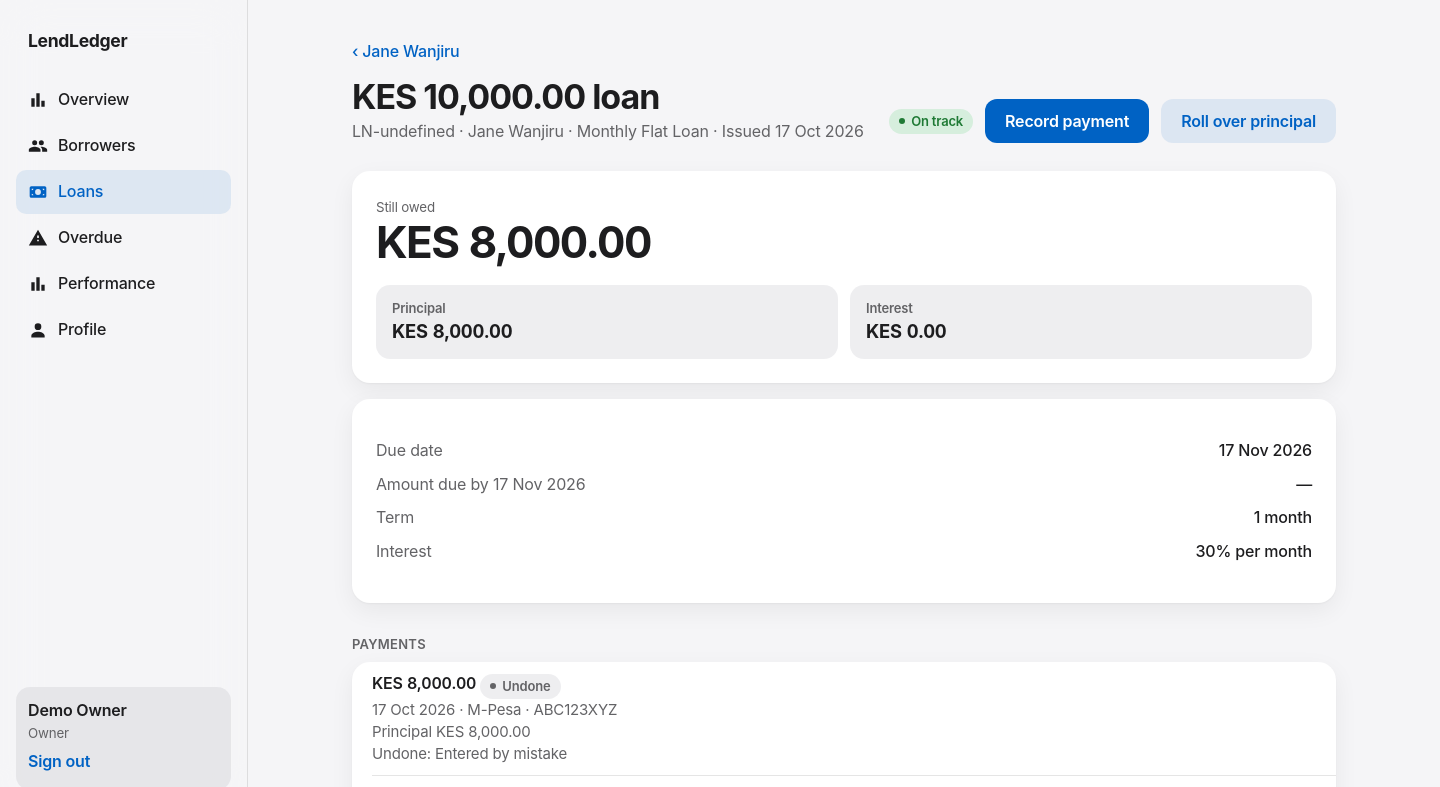
Test: record payment › retries with the SAME idempotency key after a failure
Click the button "Record payment".
click(1067, 121)  # box [985,99,1149,143]
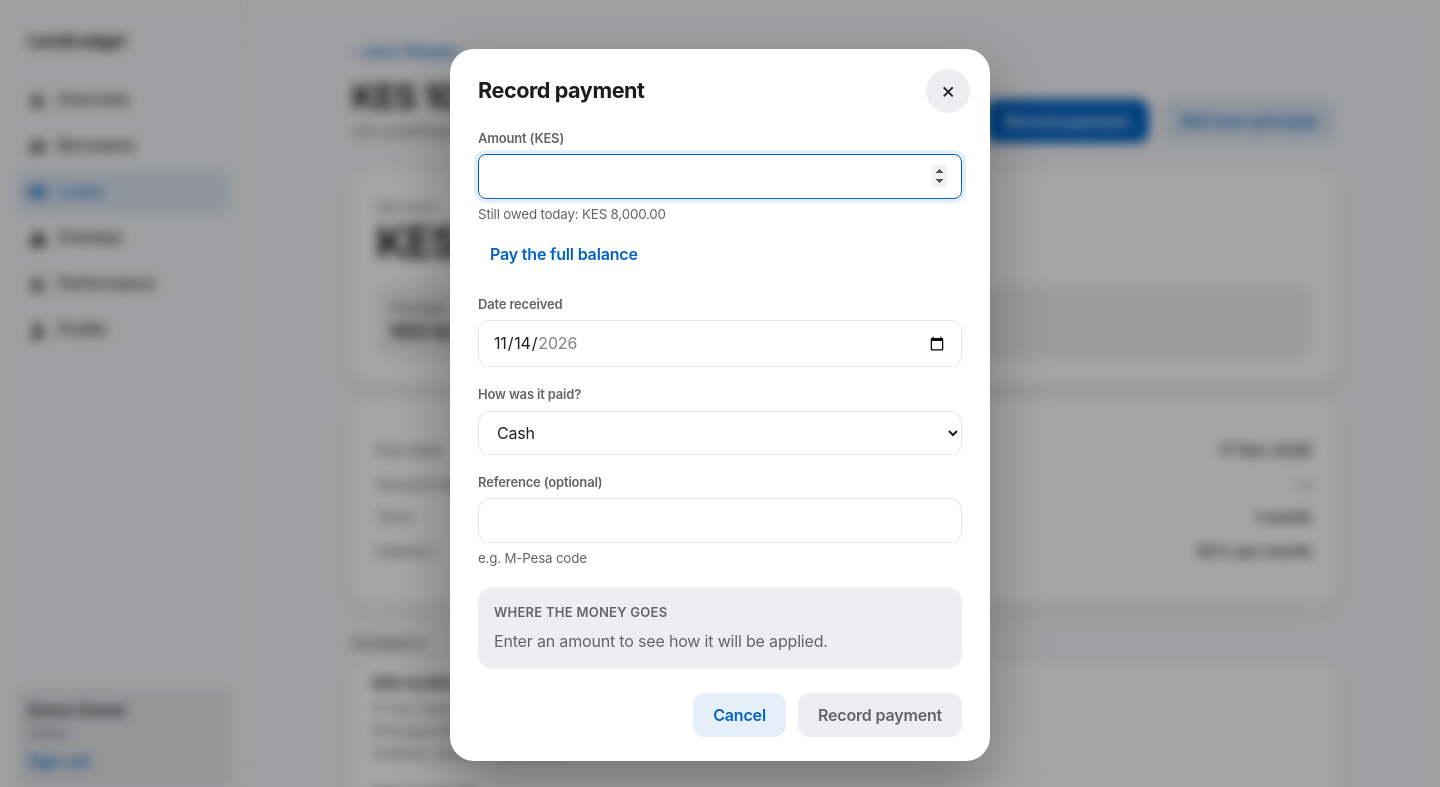
Type "5000" into the number field labelled "Amount (KES) Still owed today: KES 8,000.00".
click(720, 176); type("5000")  # box [478,154,962,199]
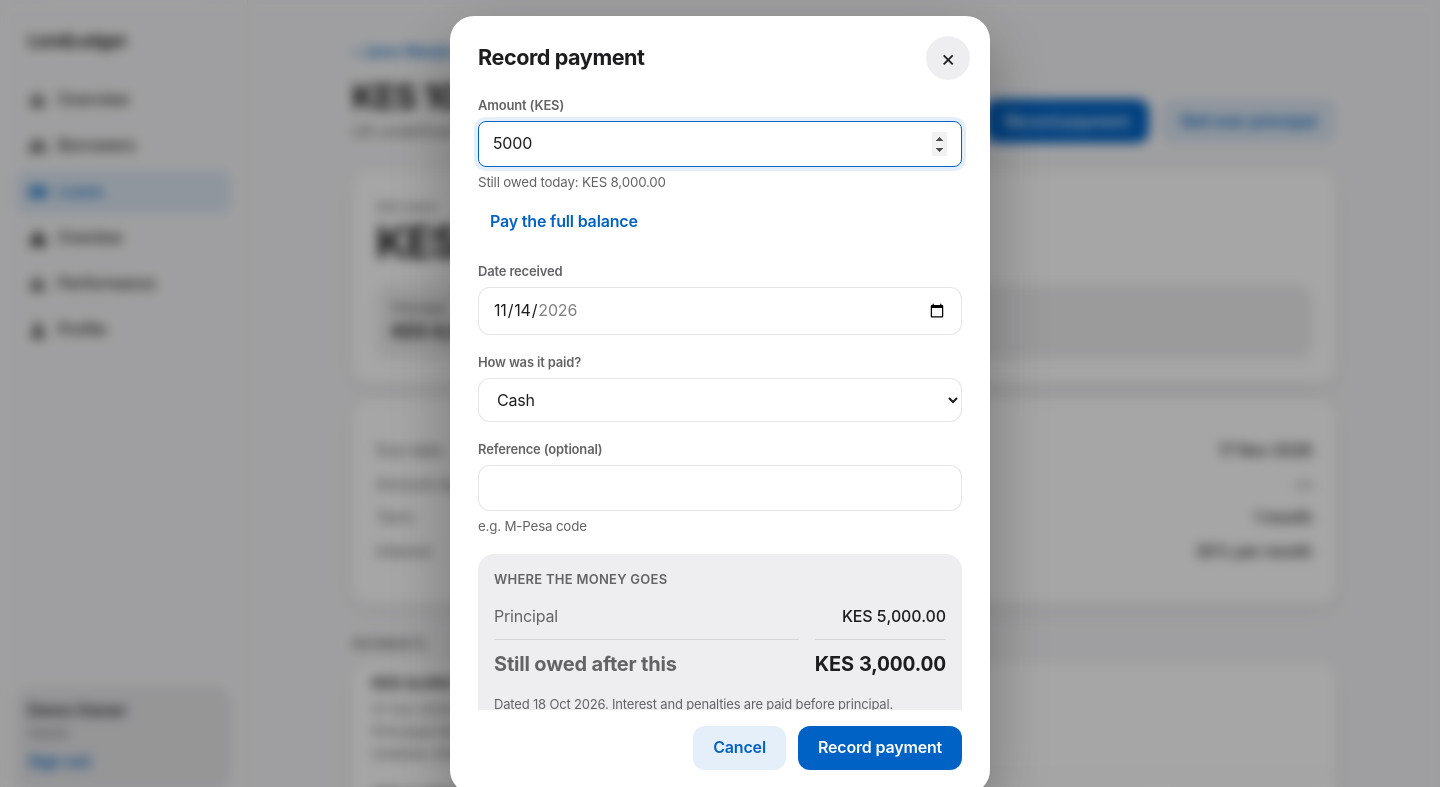
Expected: the text "KES 3,000.00" is shown, [815,639,946,679]
Click the button "Record payment".
click(880, 748)  # box [798,726,962,770]
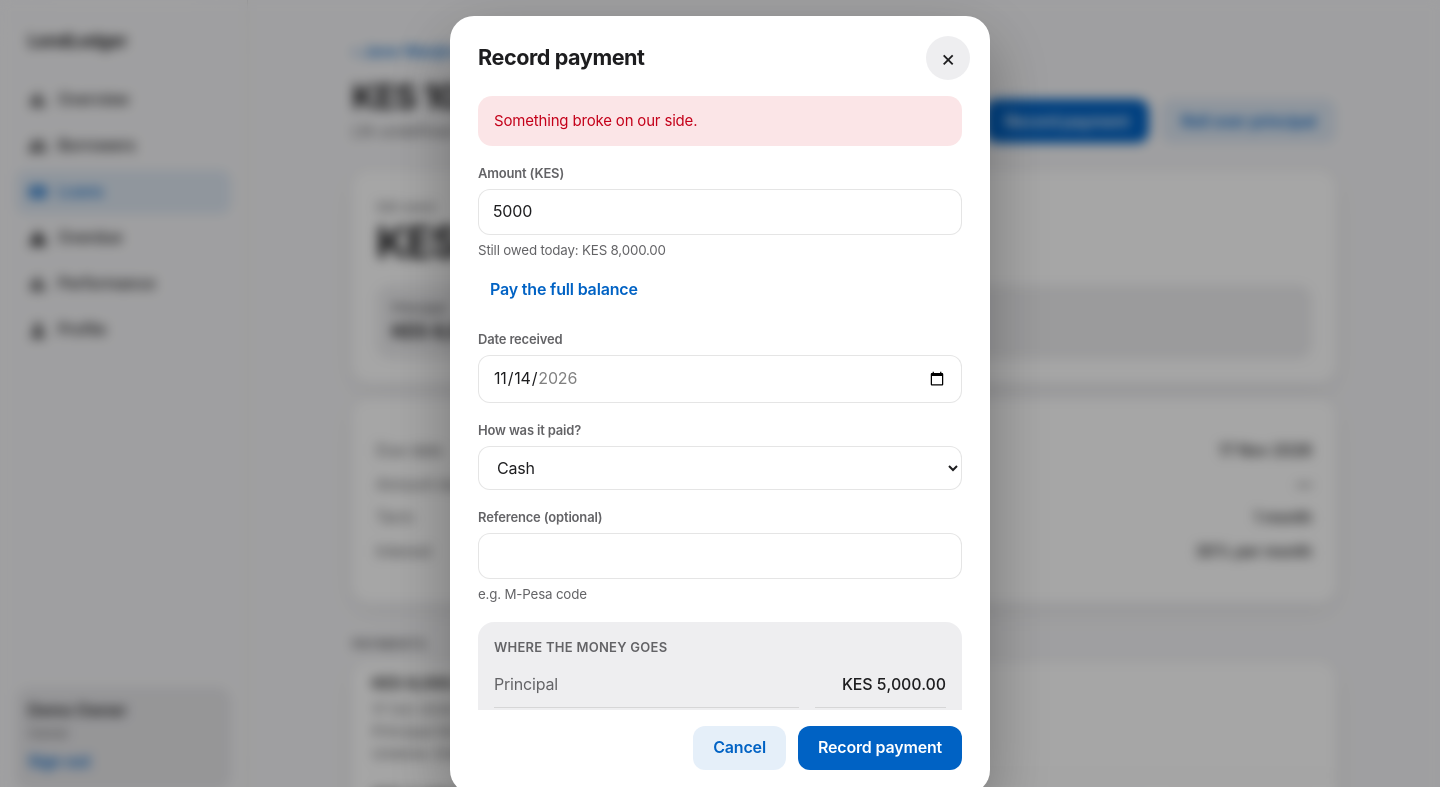
Expected: the text "Something broke on our side." is shown, [478,96,962,146]
Click the button "Record payment".
click(880, 748)  # box [798,726,962,770]
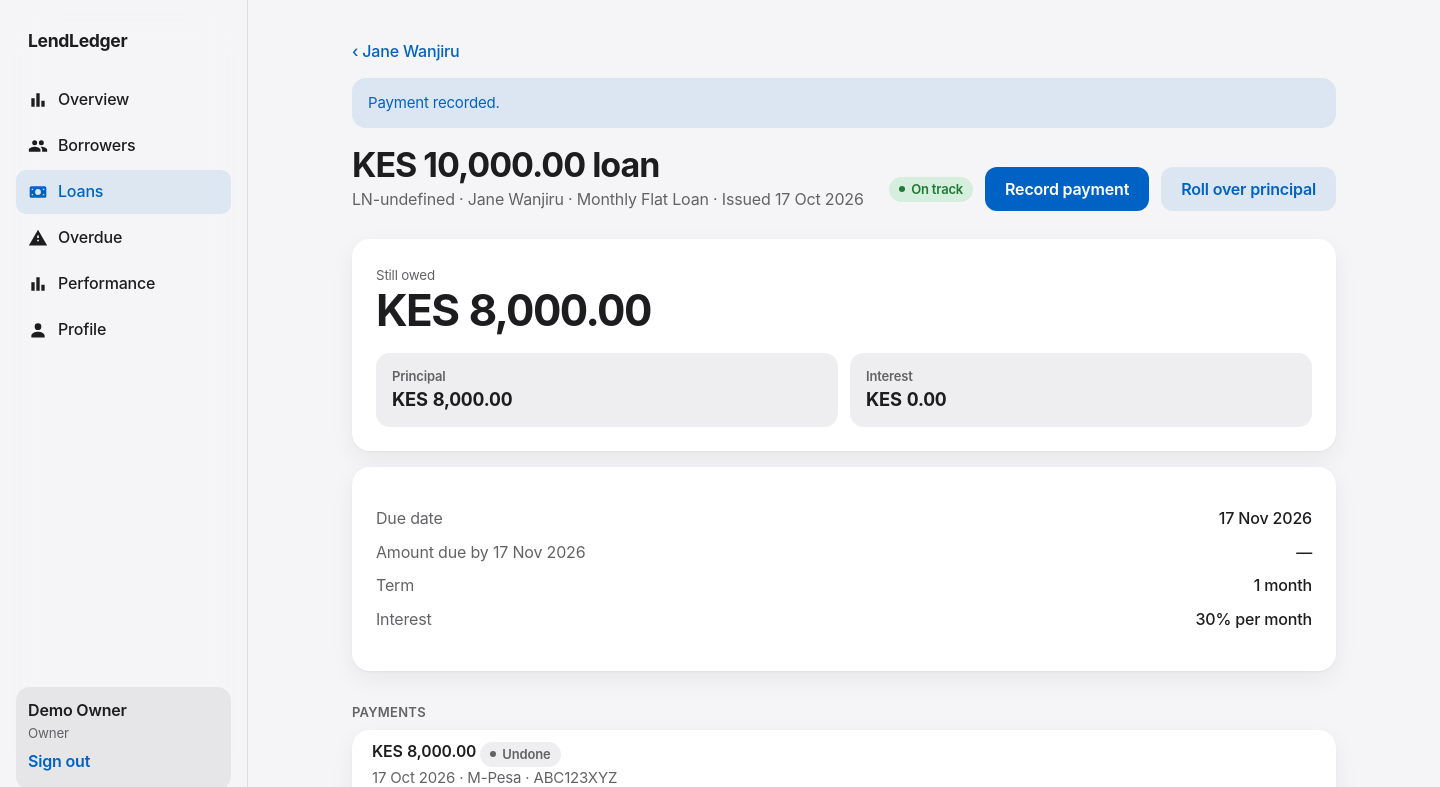
Expected: the text "Payment recorded." is shown, [352,78,1336,128]
